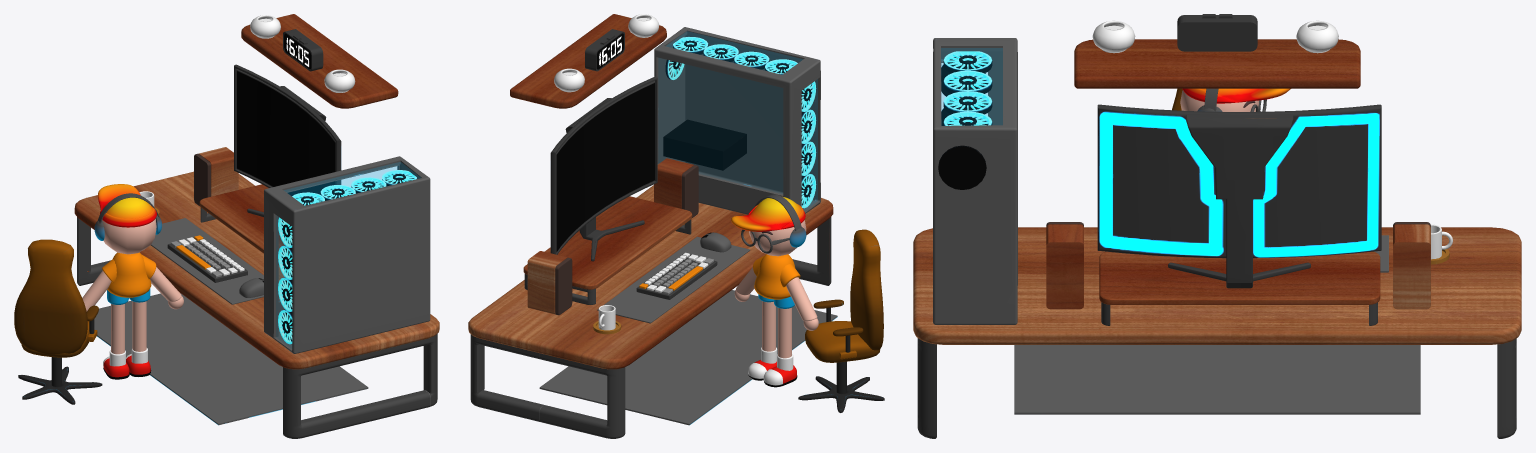
3 renders of one model, left to right at view 1: azimuth 30°, elevation 25°; view 2: azimuth 150°, elevation 25°; view 3: azimuth 270°, elevation 25°, orthographic. The views are drawn at different scales.
Visible parts, largest first — view 1: chair_pc, woodens, display, charater, small_things; view 2: chair_pc, woodens, display, charater, small_things; view 3: woodens, chair_pc, display, small_things, charater.
Boxes of the visible parts, x1,y1,x2,y2 form: chair_pc: [14, 156, 430, 425]; woodens: [74, 14, 439, 438]; display: [194, 29, 341, 217]; charater: [82, 184, 183, 379]; small_things: [139, 15, 355, 297]; chair_pc: [539, 27, 884, 425]; woodens: [468, 14, 833, 438]; display: [527, 29, 698, 315]; charater: [731, 194, 818, 387]; small_things: [554, 14, 731, 334]; woodens: [913, 39, 1521, 438]; chair_pc: [933, 38, 1420, 414]; display: [1046, 14, 1430, 309]; small_things: [1092, 20, 1452, 264]; charater: [1180, 88, 1290, 111].
Bounding box in the file's own units: 2.66 × 2.29 × 3.13.
5 materials, 5 textured.
